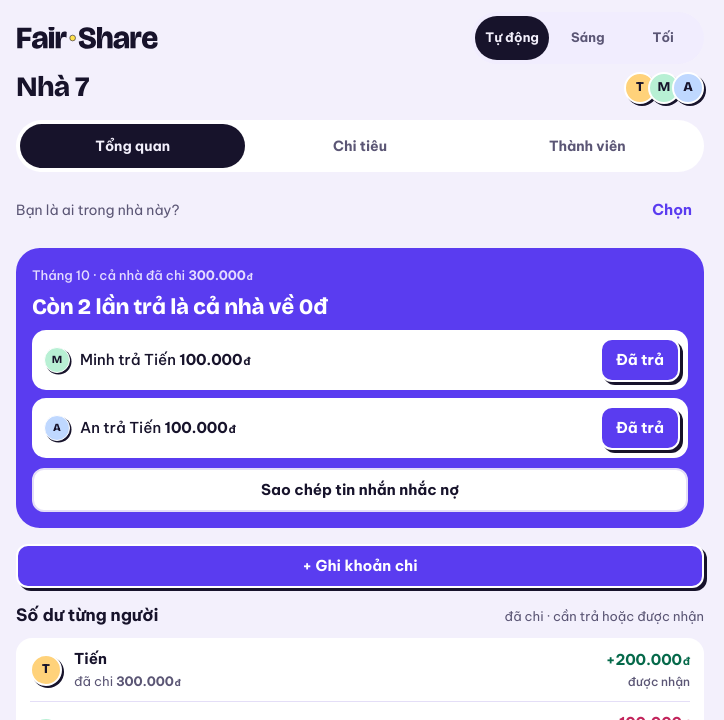
Test: after the last suggested payment the household is settled, and everyone gets the stamp
Click the button "Đã trả" in the row of "Minh trả Tiến". click: (640, 360)
box: [600,338,680,382]
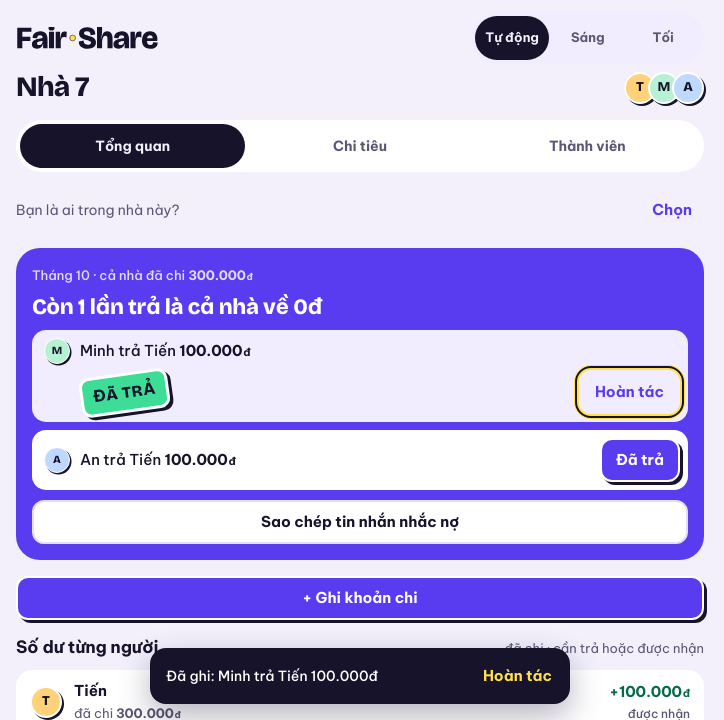
Expected: the number of buttons "Đã trả" is 1
Click the button "Đã trả". click: (640, 460)
box: [600,438,680,482]
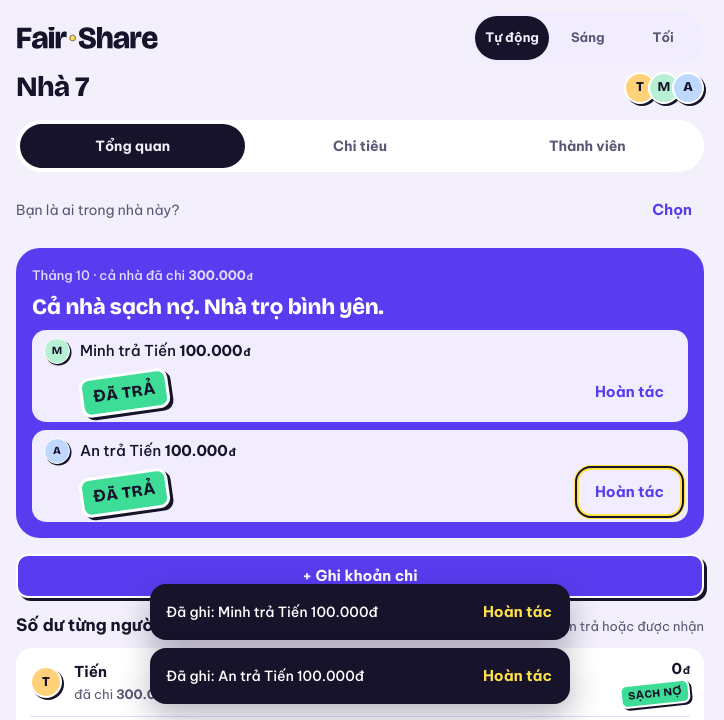
Expected: the heading "Cả nhà sạch nợ. Nhà trọ bình yên." is shown, [32,294,384,320]
Expected: the button "Sao chép tin nhắn nhắc nợ" is gone
Expected: the text "SẠCH NỢ" is shown 3 times
